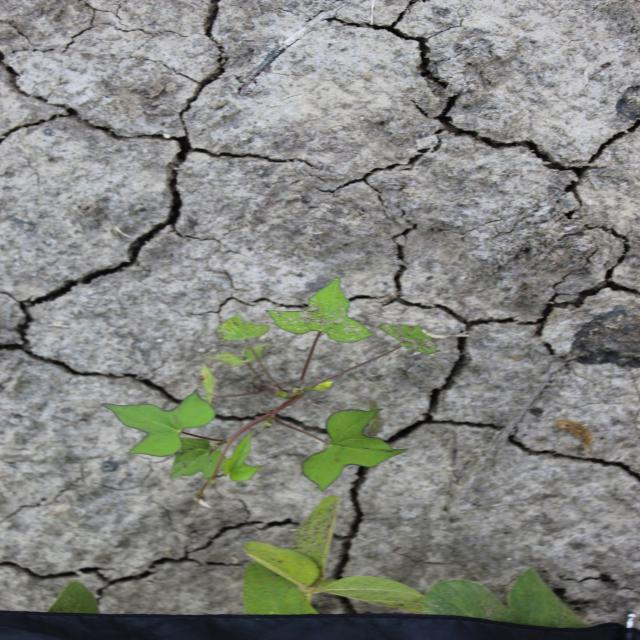MorningGlory: (98, 276, 441, 520)
